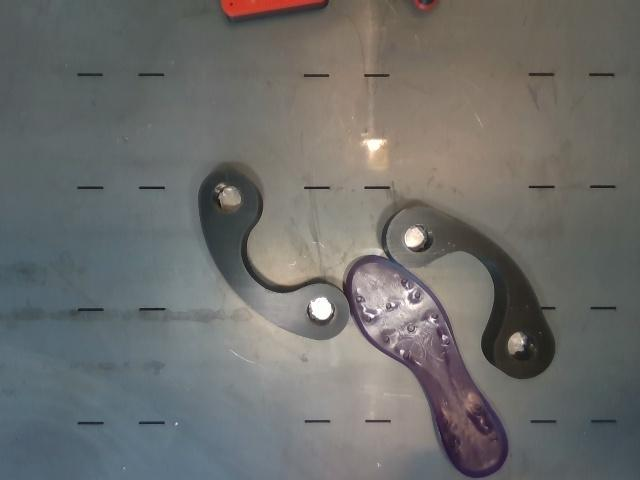shoes: (344, 255, 507, 477)
